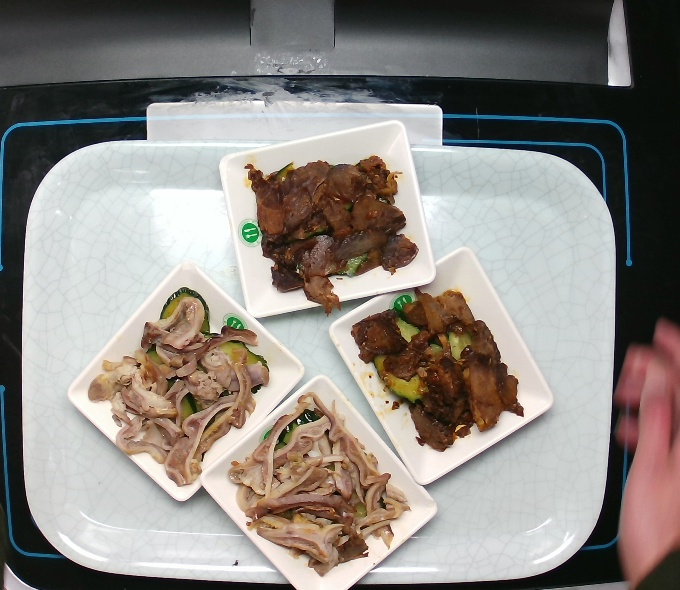wcq-JiangNiuRou: (343, 274, 531, 458), (230, 142, 423, 317)
wcq-ZhuDu: (76, 271, 273, 509), (228, 383, 413, 580)
